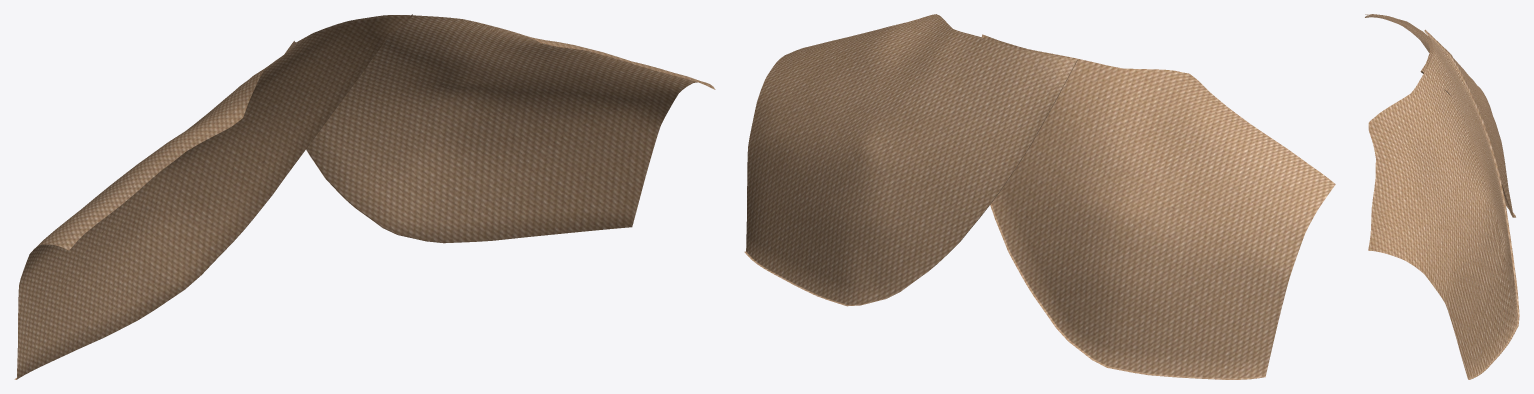
File: Butterfly_Lining.glb
3 views of the same model, side by side, from view 1: azimuth 30°, elevation 25°; view 2: azimuth 150°, elevation 25°; view 3: azimuth 270°, elevation 25° (orthographic). The views are drawn at different scales.
Visible parts, largest first — view 1: Butterfly_Lining; view 2: Butterfly_Lining; view 3: Butterfly_Lining.
Boxes of the visible parts, x1=… form: Butterfly_Lining: x1=14, y1=14, x2=715, y2=379; Butterfly_Lining: x1=744, y1=14, x2=1335, y2=379; Butterfly_Lining: x1=1365, y1=14, x2=1519, y2=379.
Size of the model in its own units: 0.0589 by 0.0261 by 0.0164.
1 material, 1 textured.
